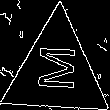M_W: (33, 47, 80, 95)
